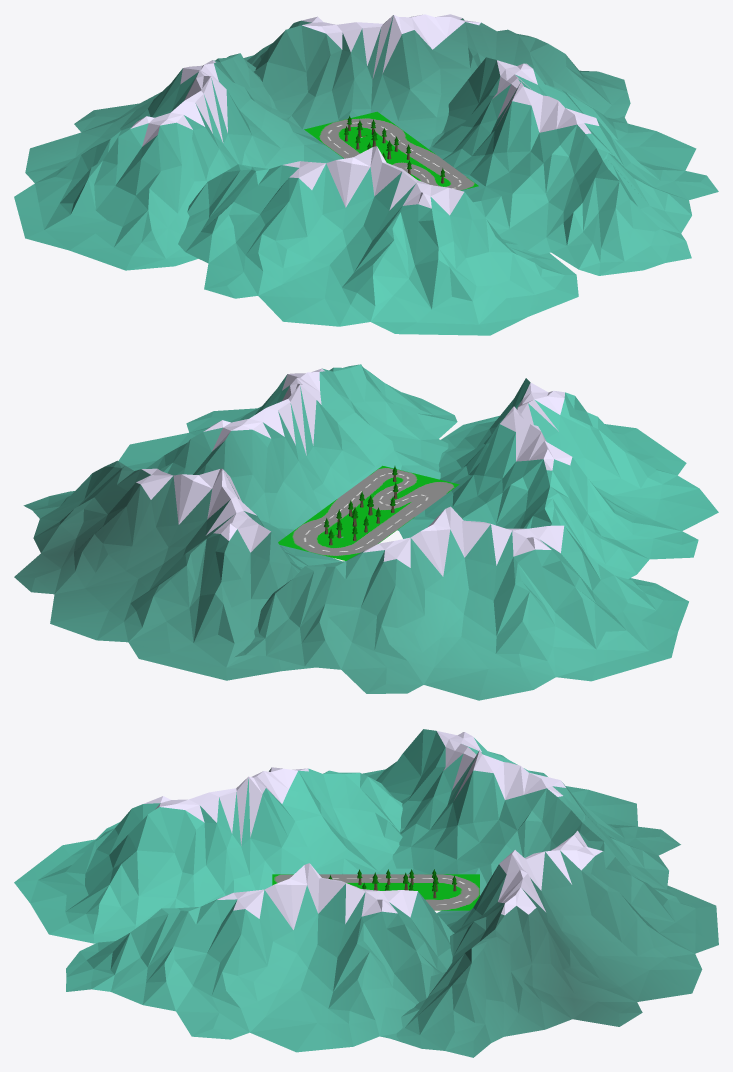
File: driftmap5.obj
3 views of the same model, one above another, from view 1: azimuth 30°, elevation 25°; view 2: azimuth 150°, elevation 25°; view 3: azimuth 270°, elevation 25° (orthographic). The views are drawn at different scales.
Visible parts, largest first — view 1: Plane_Plane.001, 平面; view 2: Plane_Plane.001, 平面; view 3: Plane_Plane.001, 平面.
Part boxes in pixels (x1,y1,x2,y2): Plane_Plane.001: [14, 14, 718, 335]; 平面: [304, 111, 478, 190]; Plane_Plane.001: [14, 364, 718, 700]; 平面: [278, 465, 459, 560]; Plane_Plane.001: [14, 729, 718, 1057]; 平面: [272, 874, 479, 910].
Size of the model in its own units: 1652 by 272 by 1625.
19 materials, 19 textured.
